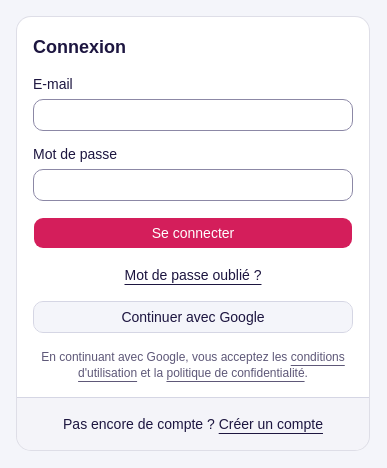
Test: LoginPage › disables the button while the request is pending
Type "alice@example.com" into the field labelled "E-mail" at (193, 115), box [33,99,353,131]
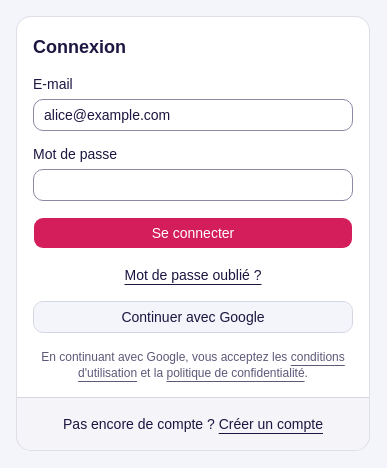
Type "correct horse battery staple" into the password field labelled "Mot de passe" at (193, 185), box [33,169,353,201]
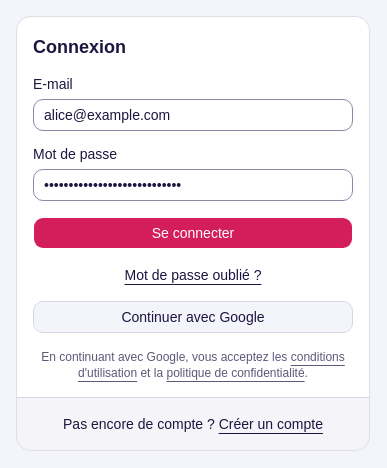
Click the button "Se connecter" at (193, 233), box [33,217,353,249]
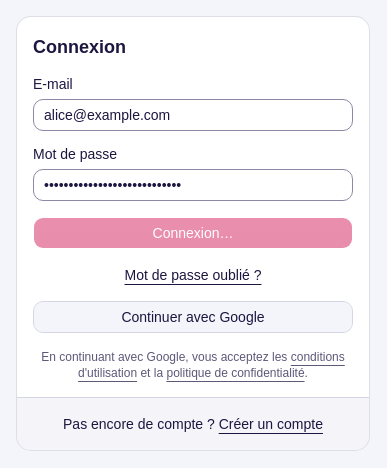
Now the button "Connexion…" is disabled, box [33,217,353,249]
